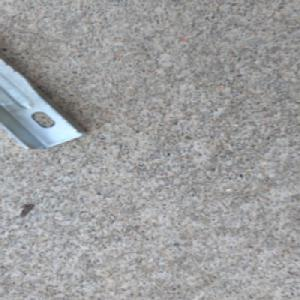ClampPart: (0, 51, 92, 150)
